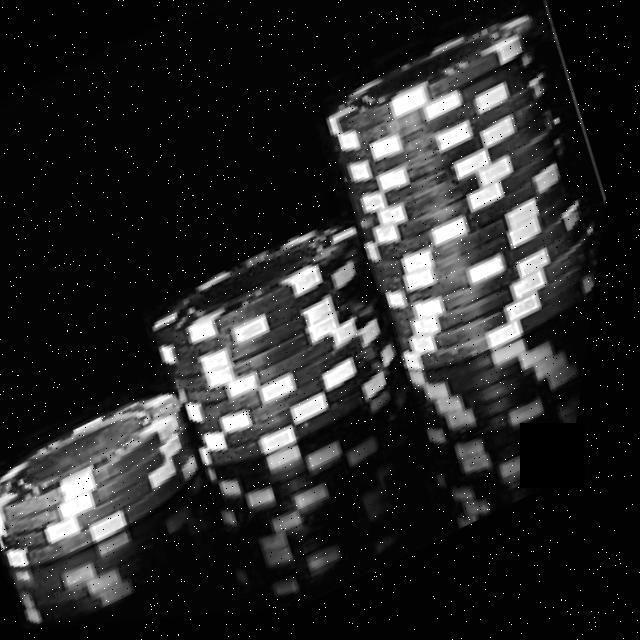Chip: (288, 0, 636, 409), (137, 200, 438, 490), (0, 372, 238, 587)
